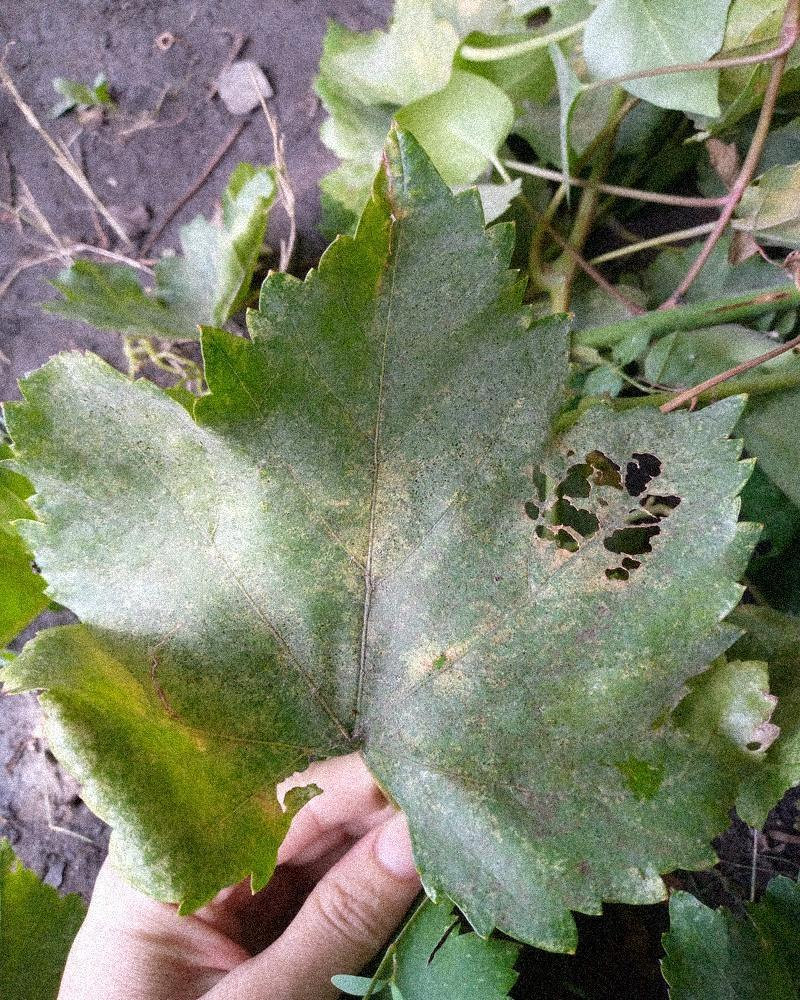Powdery-Mildew: (50, 367, 278, 658), (520, 415, 737, 598), (300, 458, 465, 650), (391, 754, 550, 890), (87, 668, 238, 782), (415, 626, 478, 689), (573, 655, 636, 718), (599, 845, 662, 908)
